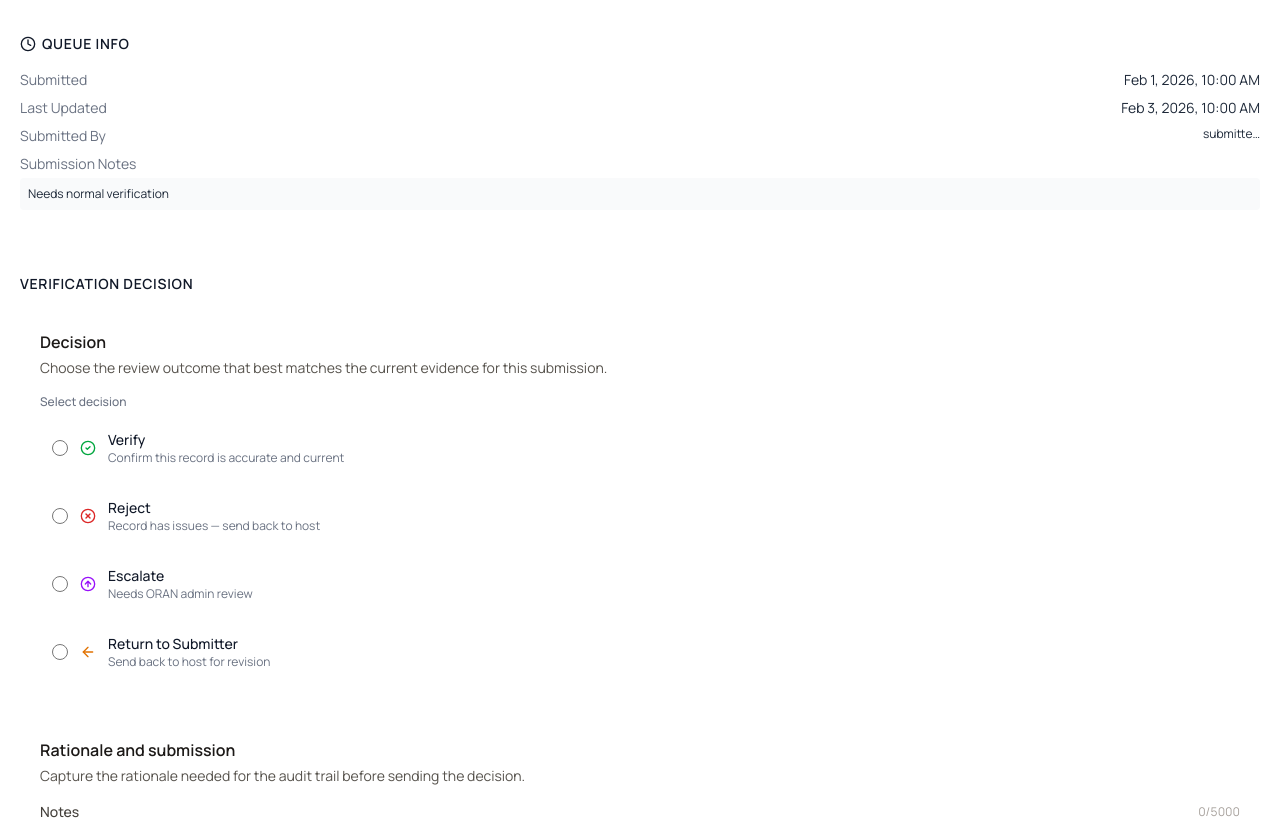
Test: community admin verify page › submits an approval decision without notes and omits notes from payload
(page scrolled)
Step 1. Click the radio button labelled "Verify Confirm this record is accurate and current" → coordinates (60, 448), box [52,440,68,456]
(page scrolled)
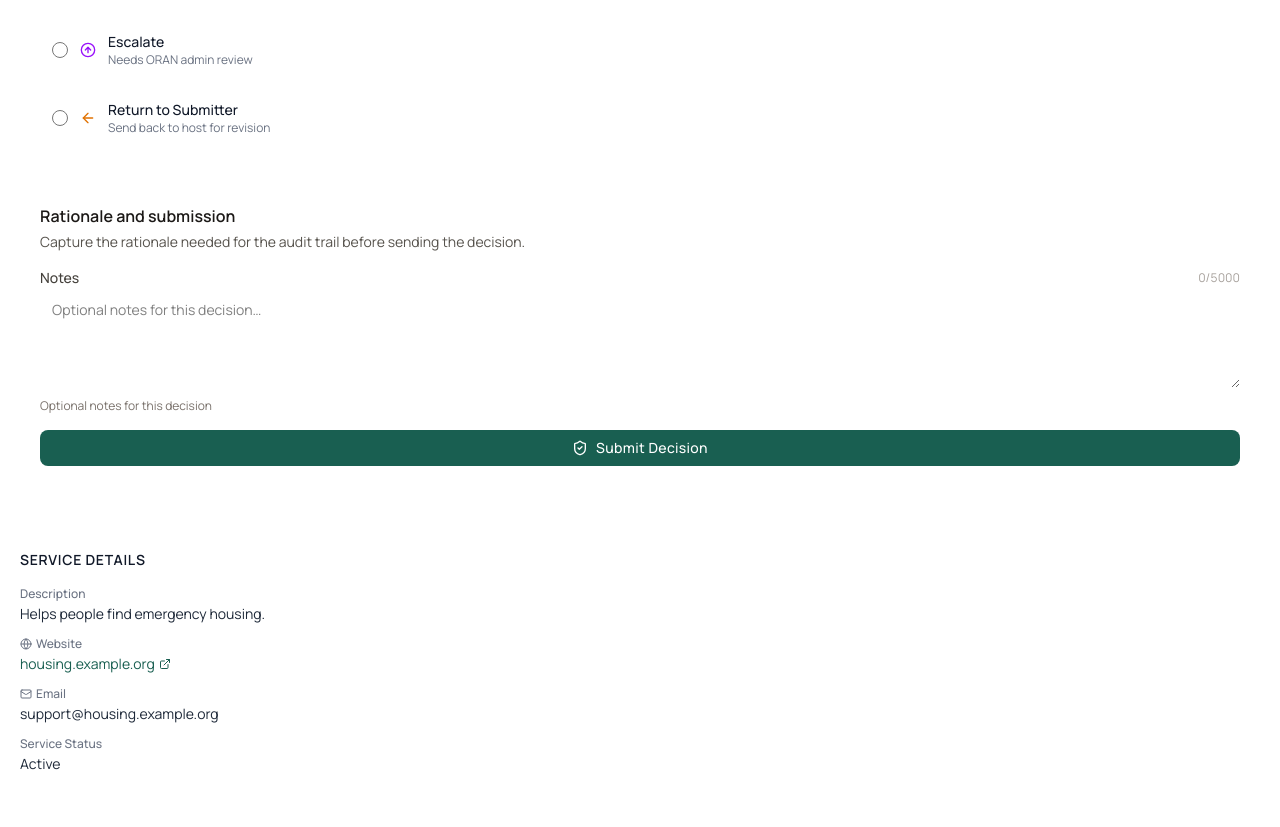
Step 2. Click the button "Submit Decision" → coordinates (640, 448), box [40,430,1240,466]
(page scrolled)
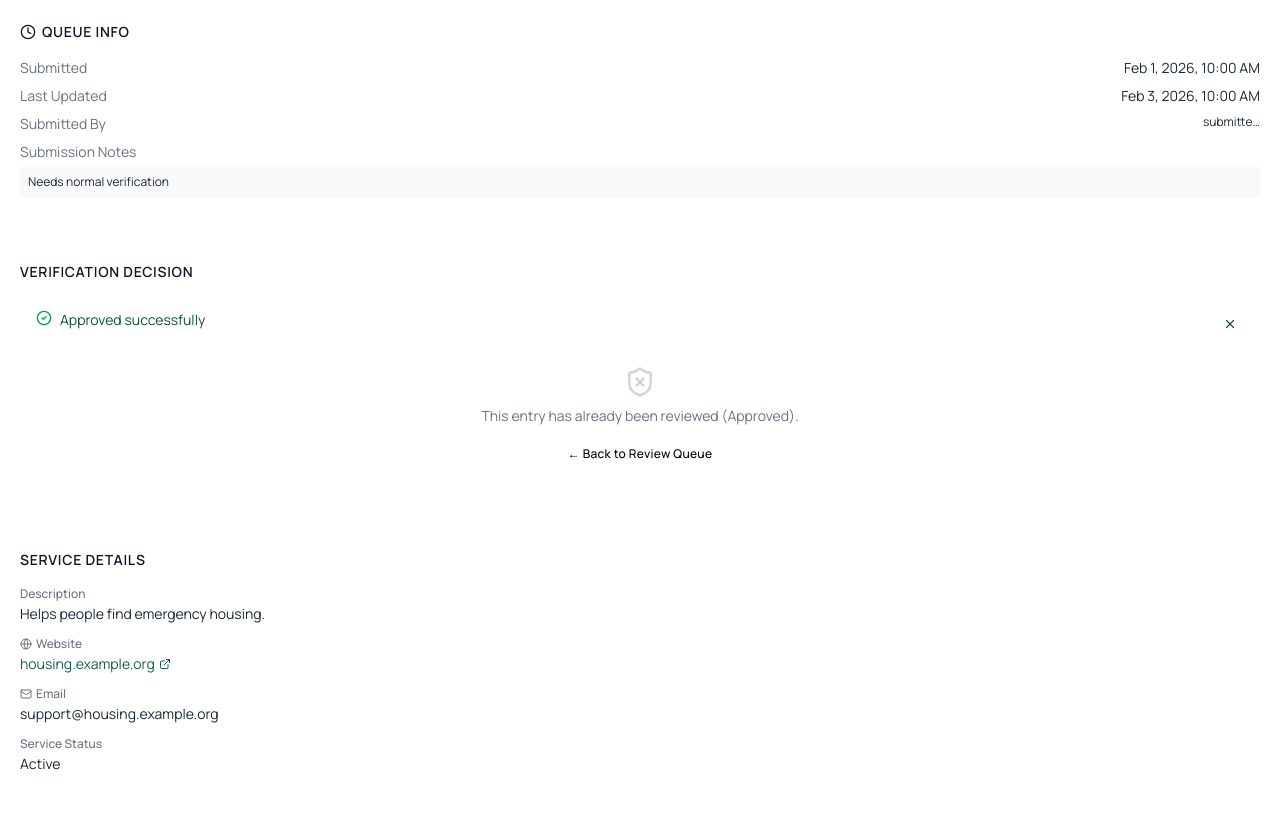
Now the text "Approved successfully" is shown, box [60,310,205,329]
